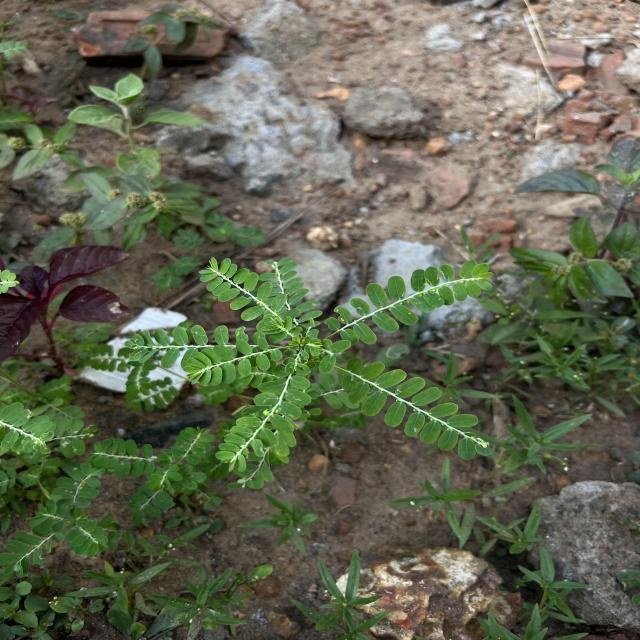Phyllanthus niruri: (333, 356, 495, 462), (323, 259, 497, 347), (213, 359, 311, 474), (194, 256, 294, 340), (118, 324, 284, 368), (166, 341, 291, 390)
